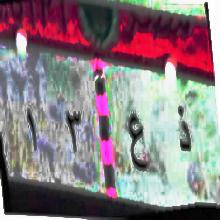1: (24, 103, 40, 158)
3: (65, 107, 83, 157)
ain: (126, 110, 151, 184)
zaal: (174, 101, 192, 159)
